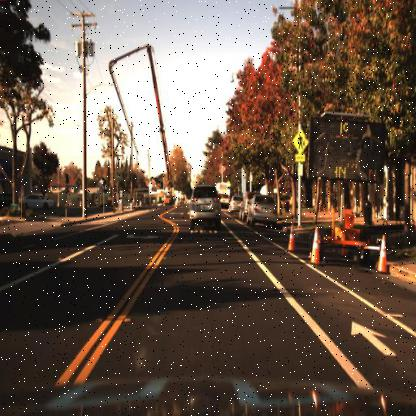car: (183, 182, 223, 232), (245, 192, 278, 228), (23, 191, 54, 212), (237, 192, 248, 226), (228, 194, 238, 220)
truck: (107, 42, 176, 208), (214, 176, 232, 211)
